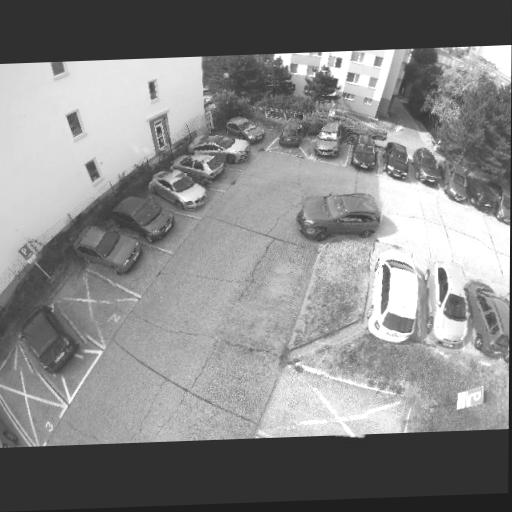busy: (15, 298, 90, 380), (369, 246, 427, 343), (298, 187, 384, 243), (427, 260, 475, 351), (71, 222, 143, 277), (464, 277, 510, 361), (112, 194, 175, 245), (148, 168, 211, 213), (193, 132, 251, 166), (174, 152, 226, 182), (310, 122, 349, 161), (347, 134, 383, 172), (439, 163, 473, 203), (227, 115, 267, 146), (384, 142, 416, 180), (414, 147, 445, 186), (472, 181, 501, 217), (278, 122, 309, 149), (491, 184, 510, 222)
free: (296, 386, 370, 439), (61, 277, 116, 324), (6, 376, 49, 417)
